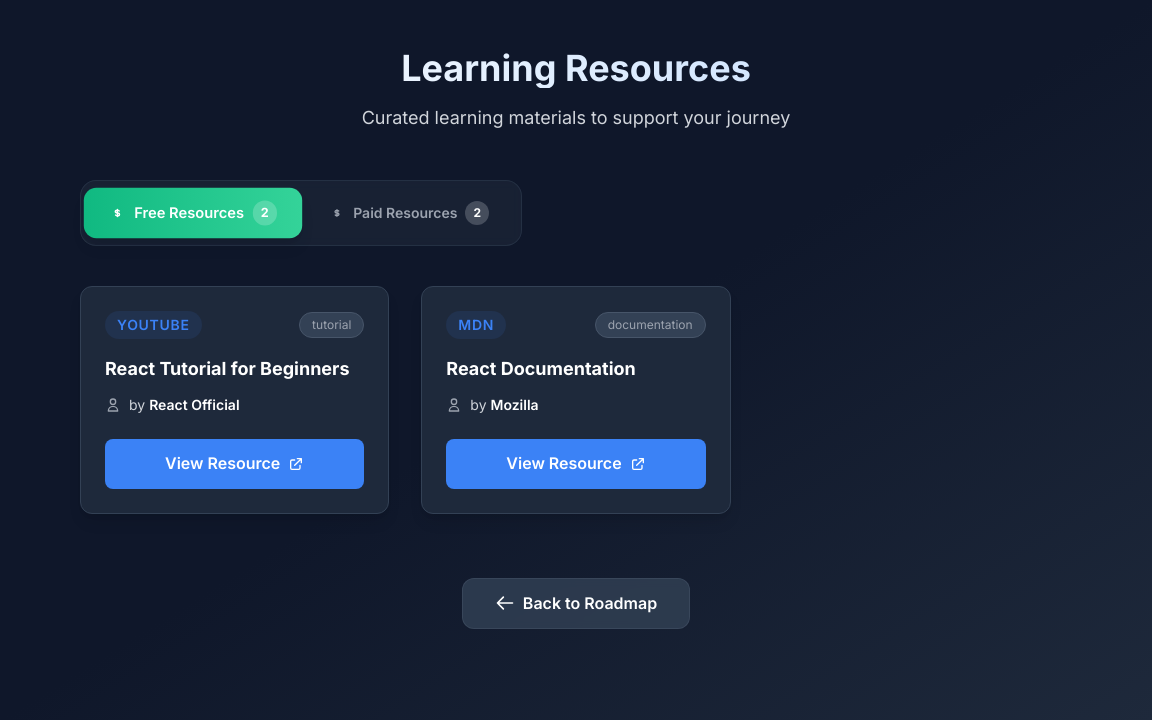
Test: Resources Page › Resource Filtering and Display › should filter resources correctly when switching between tabs (Requirement 3.2)
Check: the heading "React Tutorial for Beginners" is shown, box [105, 355, 364, 383]
Check: the text "Complete React Course" is not shown
// Switch to paid tab
Step 1. Click the tab "Paid Resources 2" → point(409, 213), box [305, 189, 513, 237]
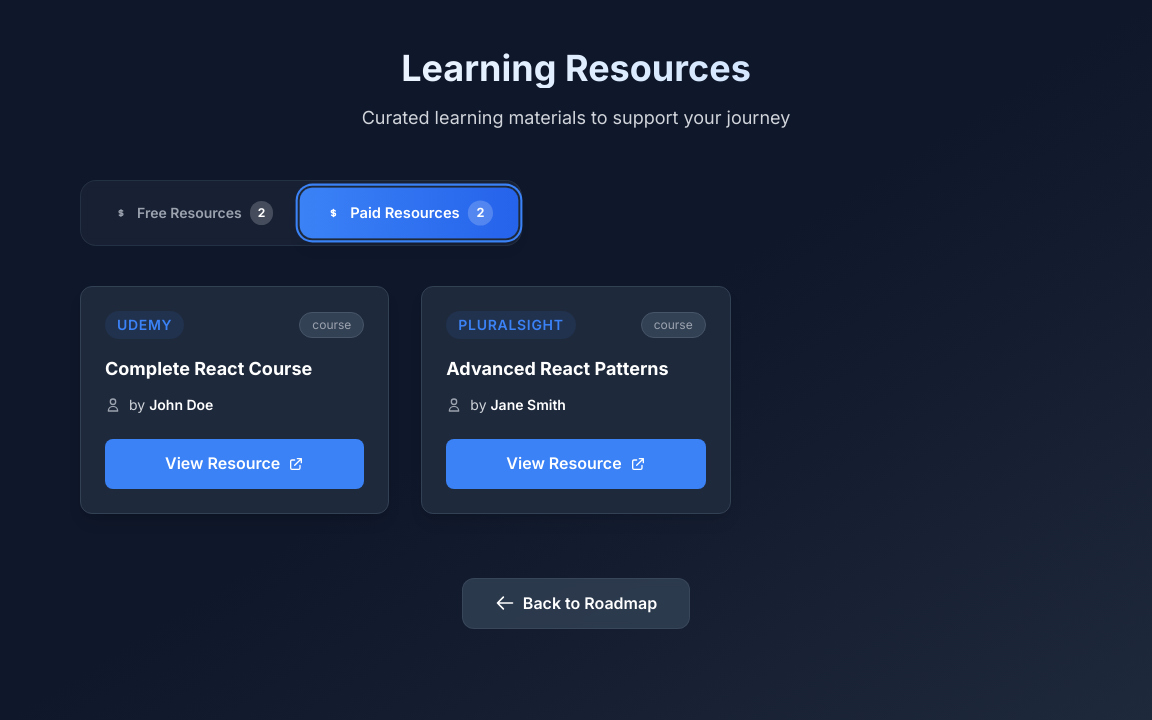
Check: the heading "React Tutorial for Beginners" is gone
Check: the heading "Complete React Course" is shown, box [105, 358, 312, 379]
// Switch back to free tab
Step 2. Click the tab "Free Resources 2" → point(193, 213), box [89, 189, 297, 237]
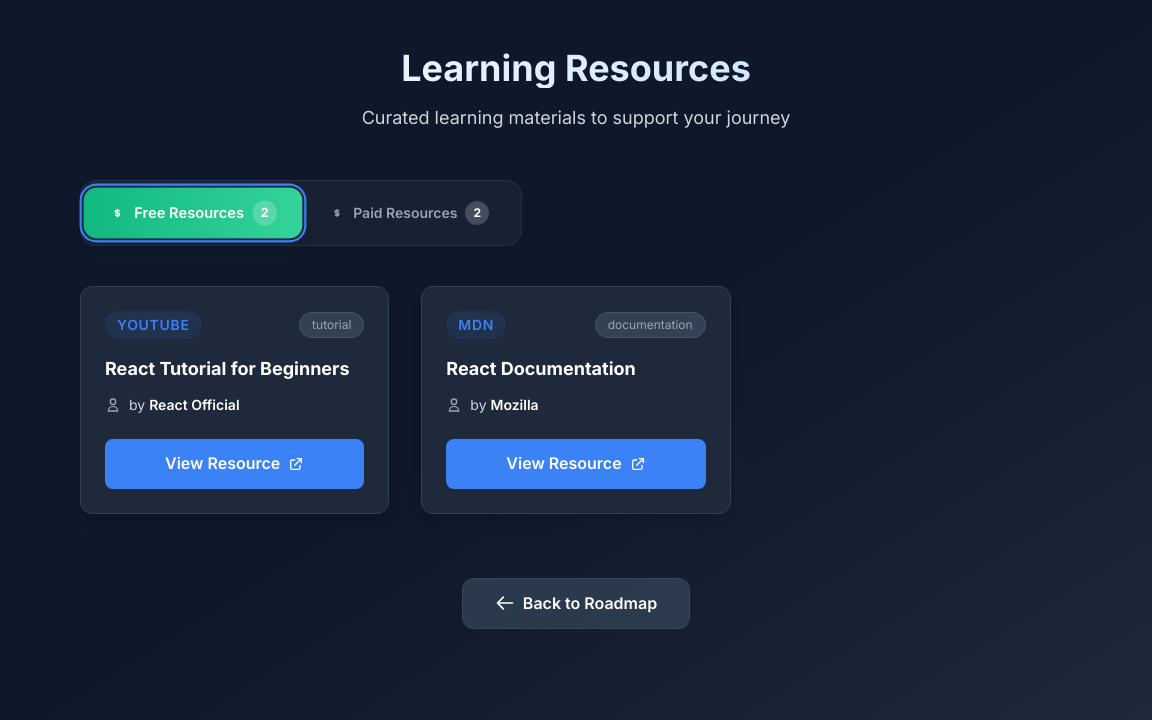
Check: the heading "React Tutorial for Beginners" is shown, box [105, 355, 364, 383]
Check: the heading "Complete React Course" is gone
